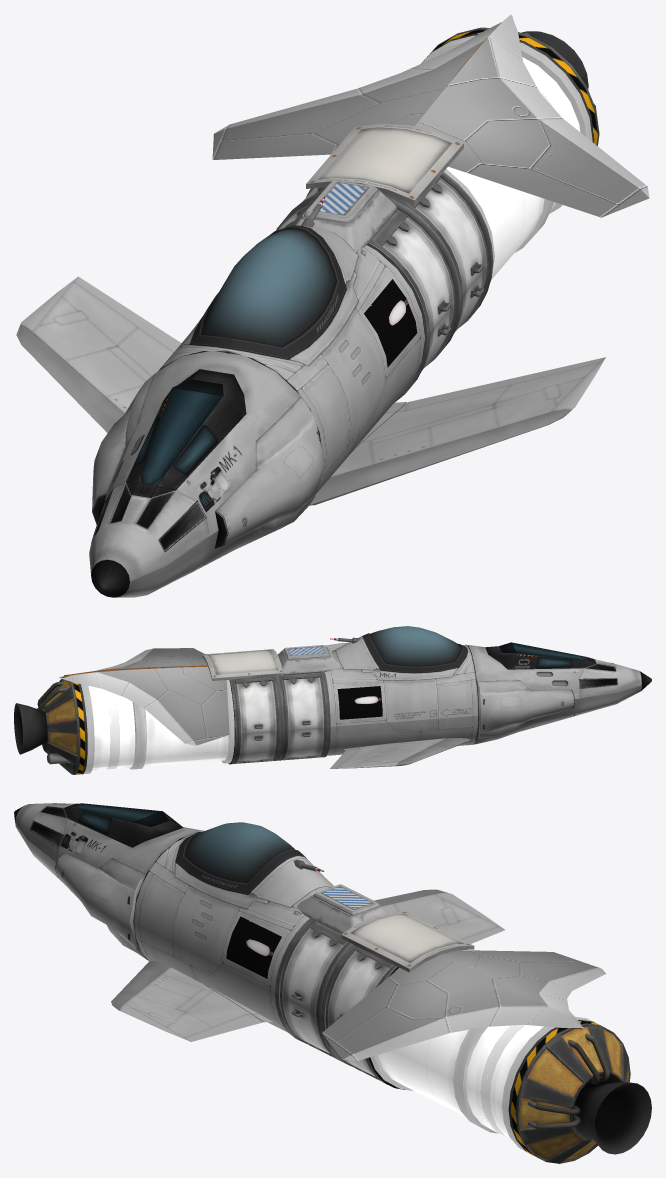
Rendered from x-1_micro_shuttle.glb.
The picture shows the model from 3 angles, top to bottom: view 1: azimuth 30°, elevation 25°; view 2: azimuth 150°, elevation 25°; view 3: azimuth 270°, elevation 25°; orthographic projection. The views are drawn at different scales.
Visible parts, largest first — view 1: body.001, winglet.010 (×2), Cockpit.001, obj_ctrlSrf.002 (×2), fueltank.001, Cylinder_002.001, Door3.002 (×2), Floor.002 (×2), FLAG.001, base.001, cap.001, engine.001 (+3 smaller); view 2: Cockpit.001, body.001, winglet.010 (×2), fueltank.001, engine.001, Door01.002 (×2), obj_ctrlSrf.002, Door4.002 (×2), Cylinder_002.001, obj_gimbal.001, FLAG.001, Top.002 (×2) (+3 smaller); view 3: Cockpit.001, winglet.010 (×2), body.001, engine.001, fueltank.001, obj_ctrlSrf.002 (×2), Door3.002 (×2), Cylinder_002.001, obj_gimbal.001, FLAG.001, Top.002 (×2), base.001 (+3 smaller).
Boxes of the visible parts, left/top/right/bottom form: body.001: left=89, top=350, right=324, bottom=597; winglet.010 (×2): left=212, top=14, right=649, bottom=217; Cockpit.001: left=157, top=225, right=425, bottom=493; obj_ctrlSrf.002 (×2): left=16, top=276, right=605, bottom=505; fueltank.001: left=421, top=35, right=592, bottom=280; Cylinder_002.001: left=306, top=123, right=463, bottom=205; Door3.002 (×2): left=382, top=179, right=486, bottom=331; Floor.002 (×2): left=276, top=172, right=493, bottom=366; FLAG.001: left=364, top=279, right=417, bottom=367; base.001: left=295, top=184, right=396, bottom=250; cap.001: left=303, top=180, right=377, bottom=223; engine.001: left=421, top=27, right=599, bottom=145; Cockpit.001: left=325, top=626, right=478, bottom=755; body.001: left=466, top=642, right=651, bottom=744; winglet.010 (×2): left=59, top=648, right=229, bottom=745; fueltank.001: left=81, top=680, right=234, bottom=774; engine.001: left=37, top=674, right=87, bottom=774; Door01.002 (×2): left=236, top=677, right=324, bottom=733; obj_ctrlSrf.002: left=330, top=738, right=470, bottom=768; Door4.002 (×2): left=237, top=727, right=324, bottom=762; Cylinder_002.001: left=202, top=649, right=283, bottom=680; obj_gimbal.001: left=14, top=703, right=47, bottom=754; FLAG.001: left=337, top=686, right=382, bottom=719; Top.002 (×2): left=271, top=671, right=330, bottom=760; Cockpit.001: left=133, top=822, right=334, bottom=1032; winglet.010 (×2): left=322, top=950, right=605, bottom=1060; body.001: left=14, top=803, right=204, bottom=959; engine.001: left=508, top=1019, right=630, bottom=1163; fueltank.001: left=370, top=967, right=592, bottom=1155; obj_ctrlSrf.002 (×2): left=111, top=889, right=504, bottom=1041; Door3.002 (×2): left=282, top=928, right=389, bottom=1022; Cylinder_002.001: left=341, top=911, right=474, bottom=972; obj_gimbal.001: left=577, top=1082, right=651, bottom=1154; FLAG.001: left=226, top=916, right=281, bottom=978; Top.002 (×2): left=275, top=918, right=357, bottom=1067; base.001: left=297, top=895, right=386, bottom=934.
Size of the model in its own units: 2.98 by 0.7685 by 2.55.
14 materials, 14 textured.
